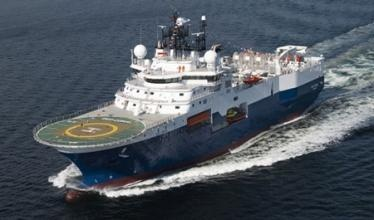warship: (28, 10, 328, 178)
